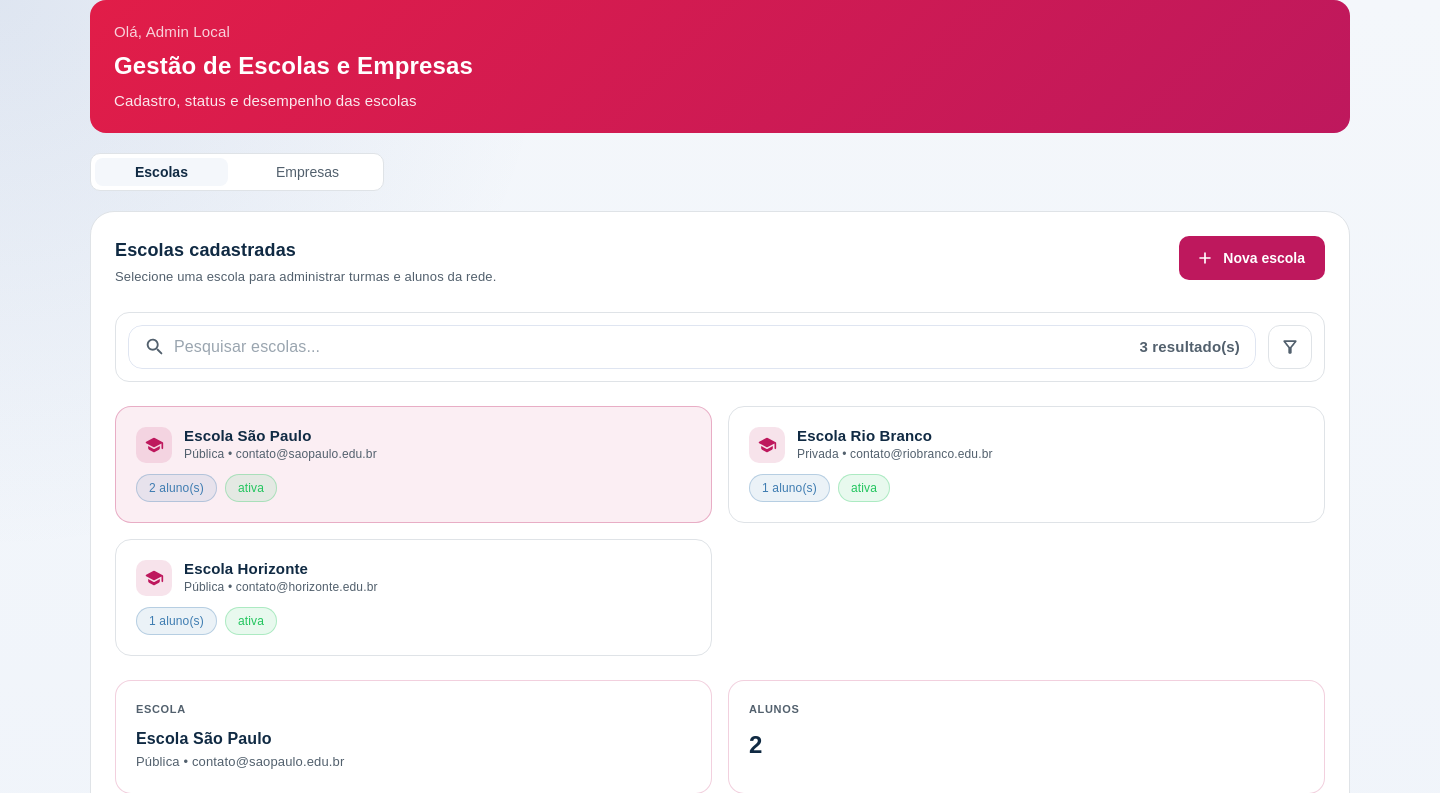
SchoolCompanyPage filters schools by search query
Expected: the element with test id "school-item-1" is shown, [115,406,712,523]
Type "Rio" into the search field with placeholder "Pesquisar escolas...". click: (653, 346)
box: [174,330,1132,363]
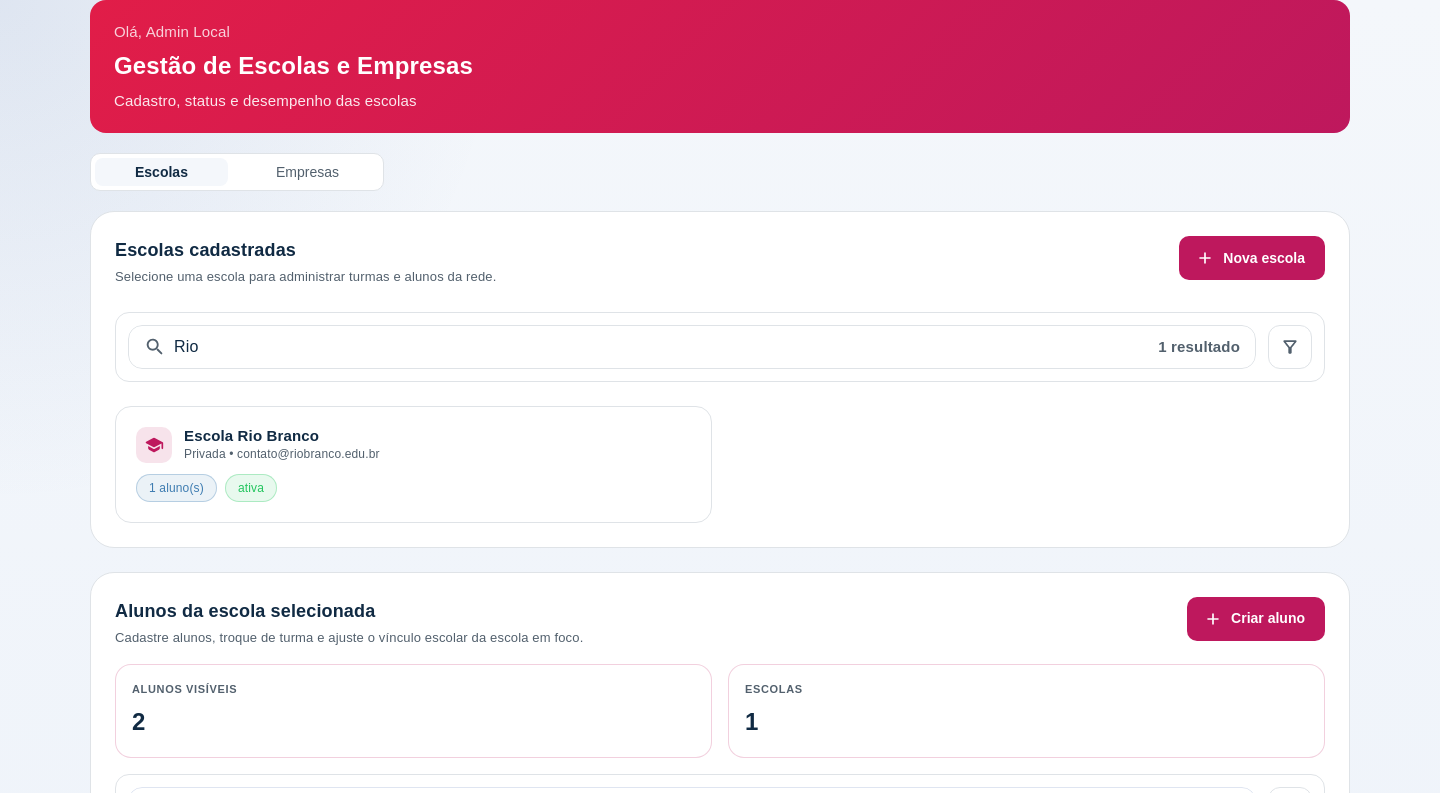
Expected: the element with test id "school-item-2" is shown, [115,406,712,523]
Expected: the element with test id "school-item-1" is gone
